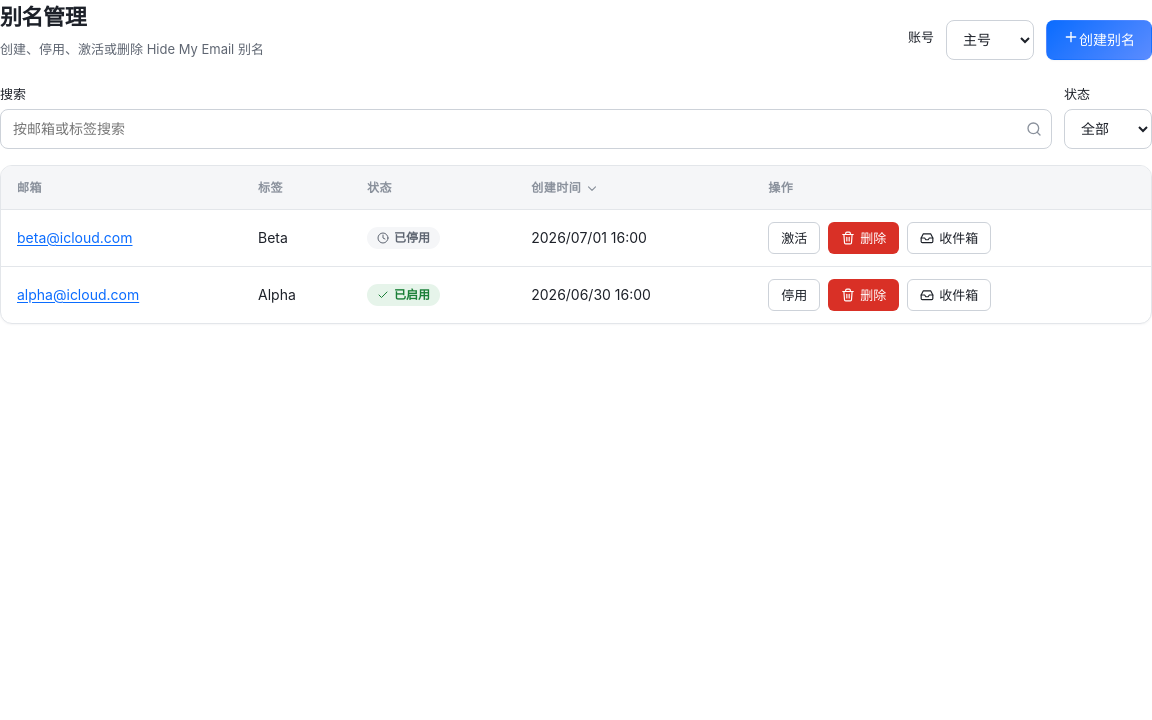
Test: AliasesPage › 激活别名:显示目标邮箱并二次确认
Expected: the button "beta@icloud.com" is shown, [17,227,132,250]
Click the button "激活" at (794,238), box [768,222,820,254]
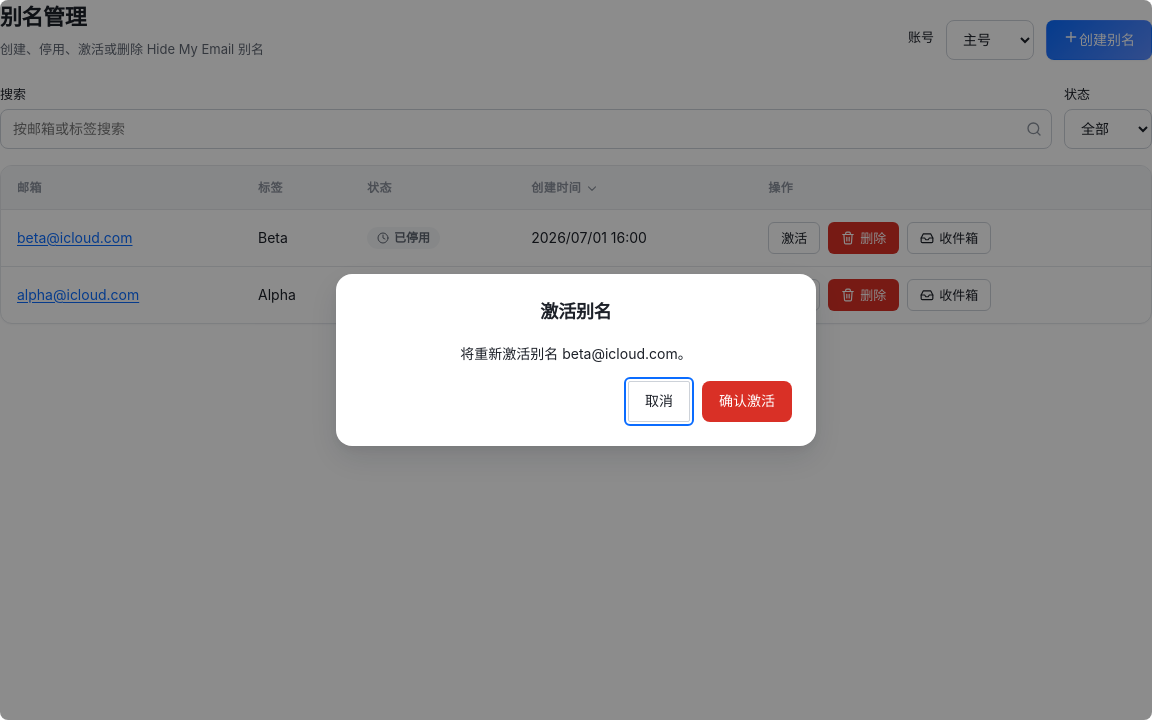
Expected: the dialog shows "beta@icloud.com", [460,345,692,362]
Click the button "确认激活" at (747,402), box [702,381,792,422]
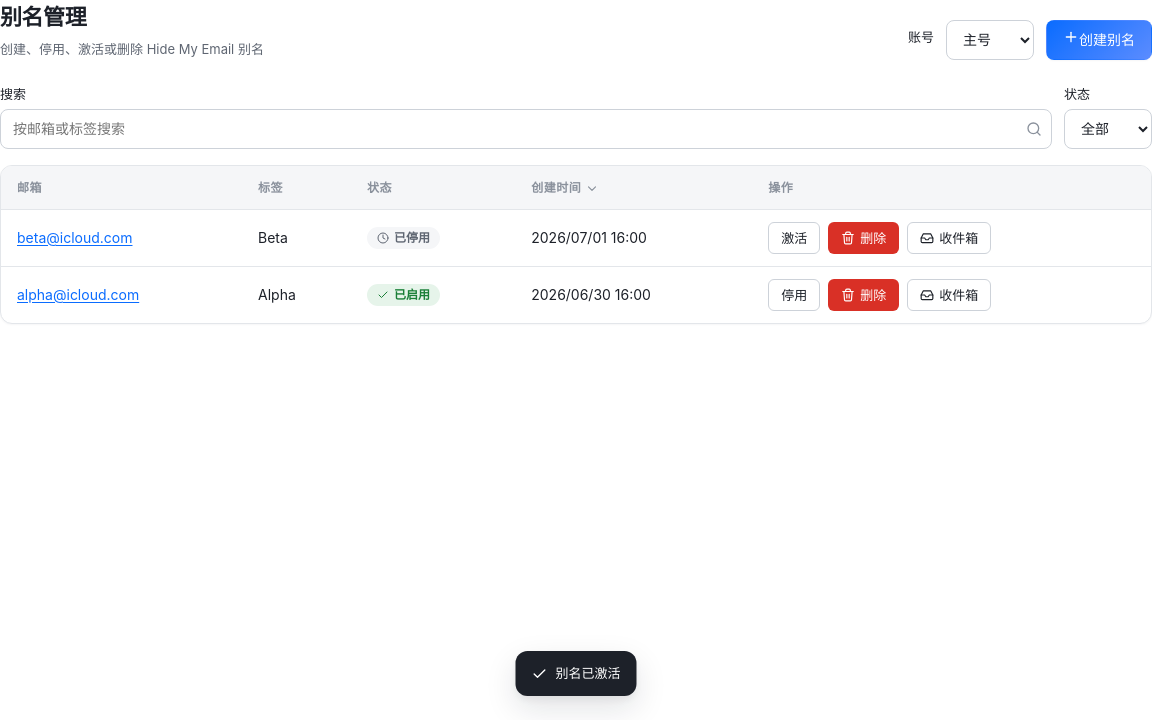
Expected: the dialog is gone
